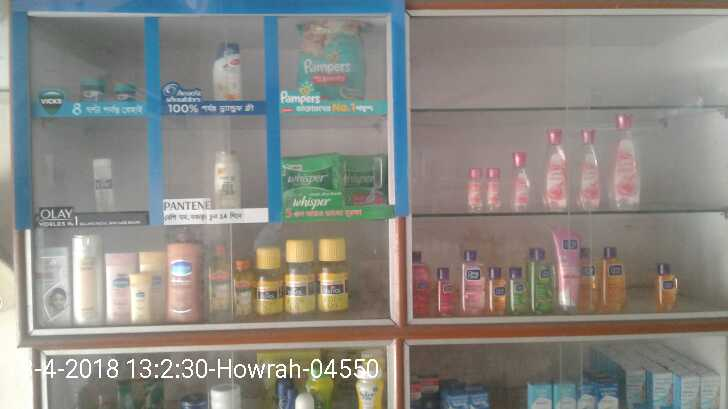vicks: (79, 69, 134, 100)
